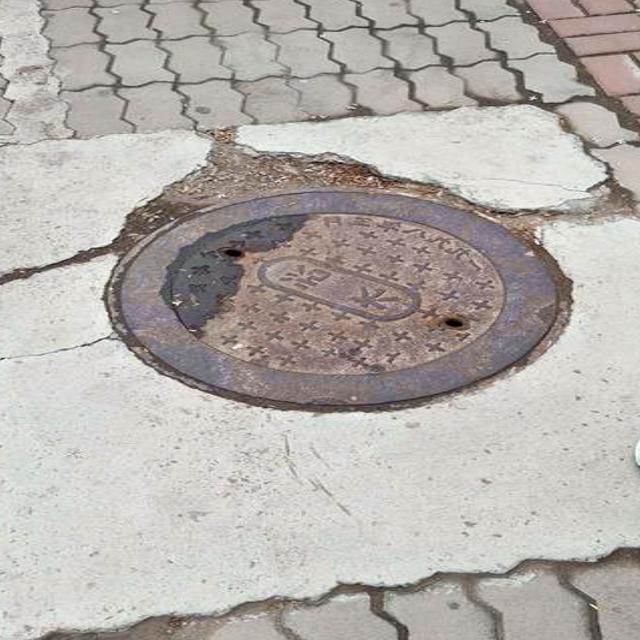circle: (0, 135, 640, 449)
